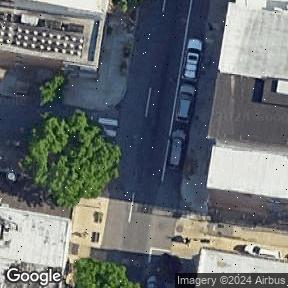vegetation: (5, 93, 133, 221), (74, 257, 140, 288), (32, 71, 72, 108)
